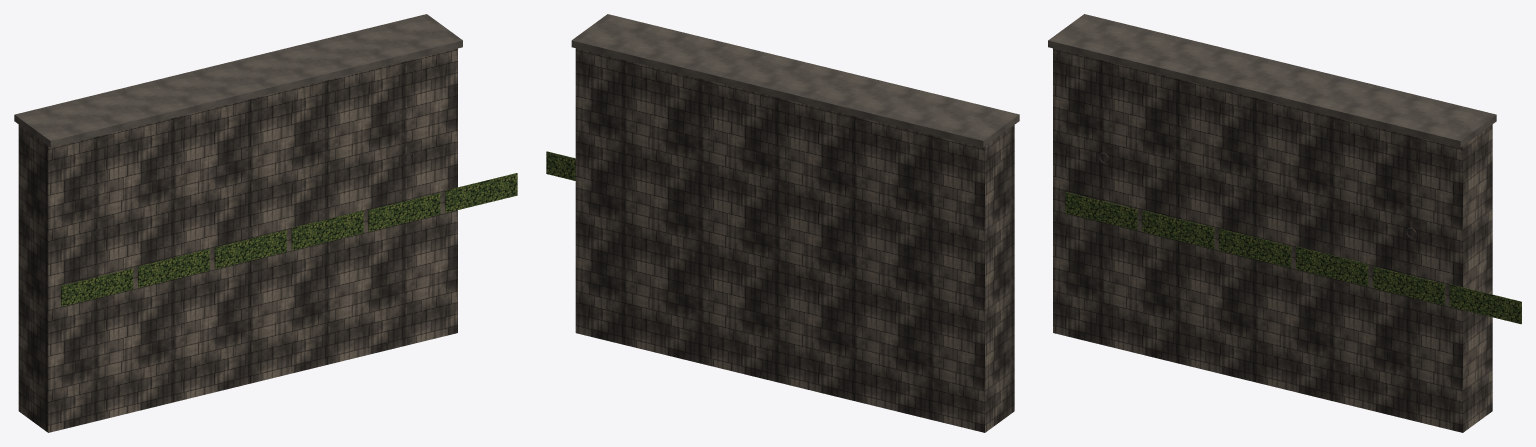
The model's file is embankment.gltf.
The picture shows the model from 3 angles, left to right: view 1: azimuth 30°, elevation 25°; view 2: azimuth 150°, elevation 25°; view 3: azimuth 330°, elevation 25°; orthographic projection.
Visible parts, largest first — view 1: embankment_mesh; view 2: embankment_mesh; view 3: embankment_mesh.
Part boxes in pixels (x1=…): embankment_mesh: x1=14, y1=14, x2=517, y2=432; embankment_mesh: x1=546, y1=14, x2=1019, y2=432; embankment_mesh: x1=1048, y1=14, x2=1521, y2=432.
Size of what is drawn, in the model's own units: 18.35 by 11 by 2.45.
Materials: 4 (4 with a texture image).
